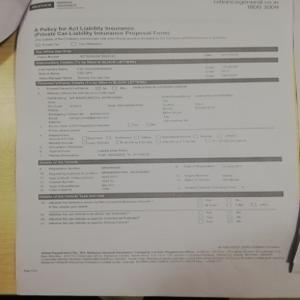image: (25, 1, 57, 11)
table: (38, 156, 285, 192), (39, 192, 285, 225), (31, 56, 280, 78)
text: (30, 22, 233, 45)
